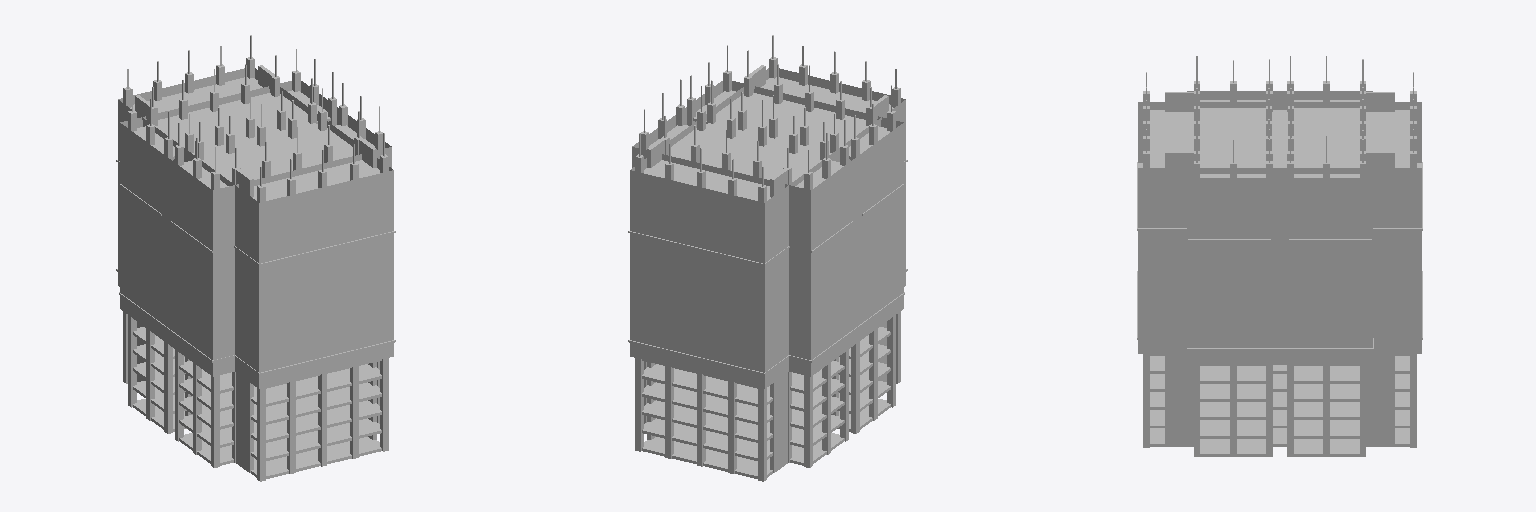
File: 建筑工地1.obj
3 views of the same model, side by side, from view 1: azimuth 30°, elevation 25°; view 2: azimuth 150°, elevation 25°; view 3: azimuth 270°, elevation 25° (orthographic).
Bounding box in the file's own units: 366 × 618 × 501.